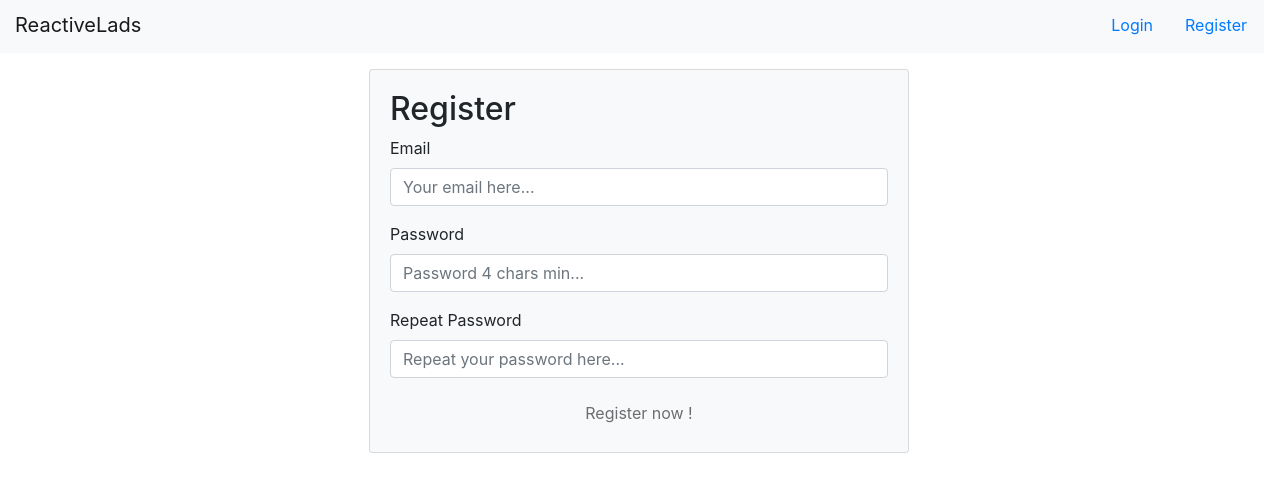
it: <RegisterForm/> e2e › Fields validation › Password field validation › should validate empty password field on blur
Focus the password field named "password" at (639,273), box [390, 254, 888, 292]
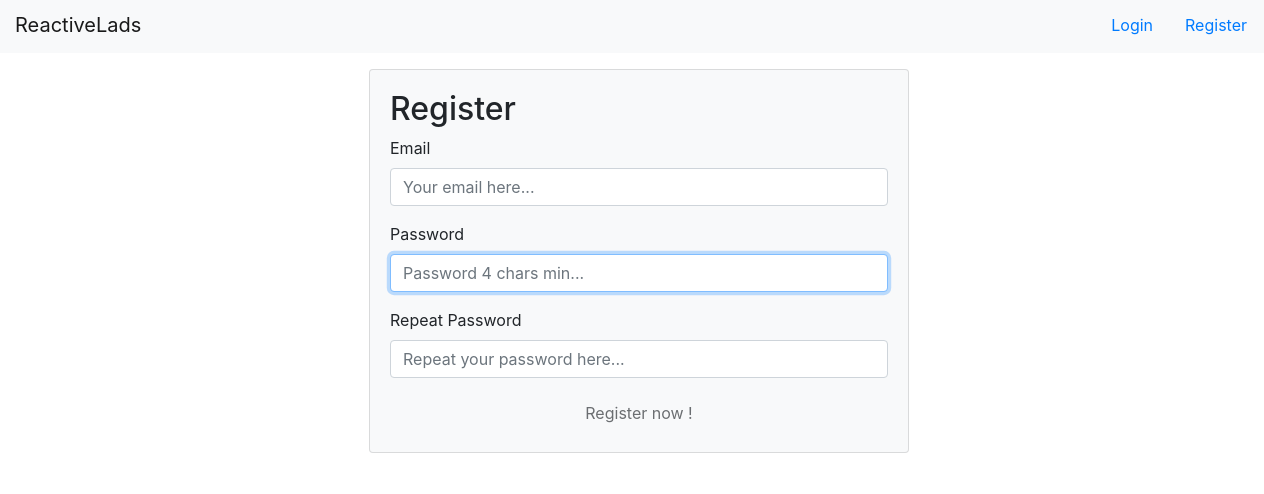
Leave the password field named "password", box [390, 254, 888, 292]
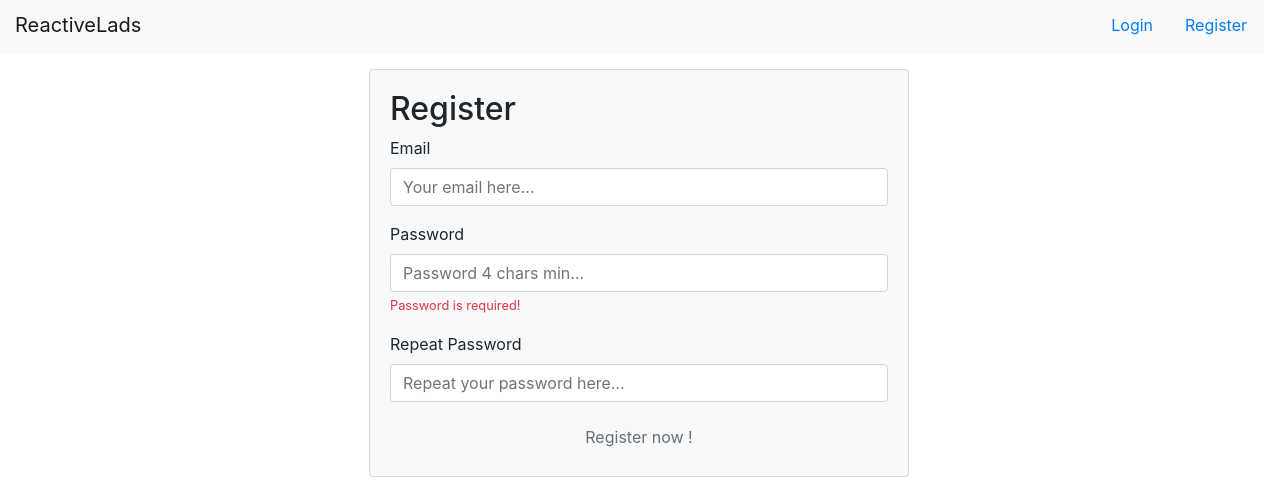
Expected: the text "Password is required!" is shown, [390, 298, 520, 313]
